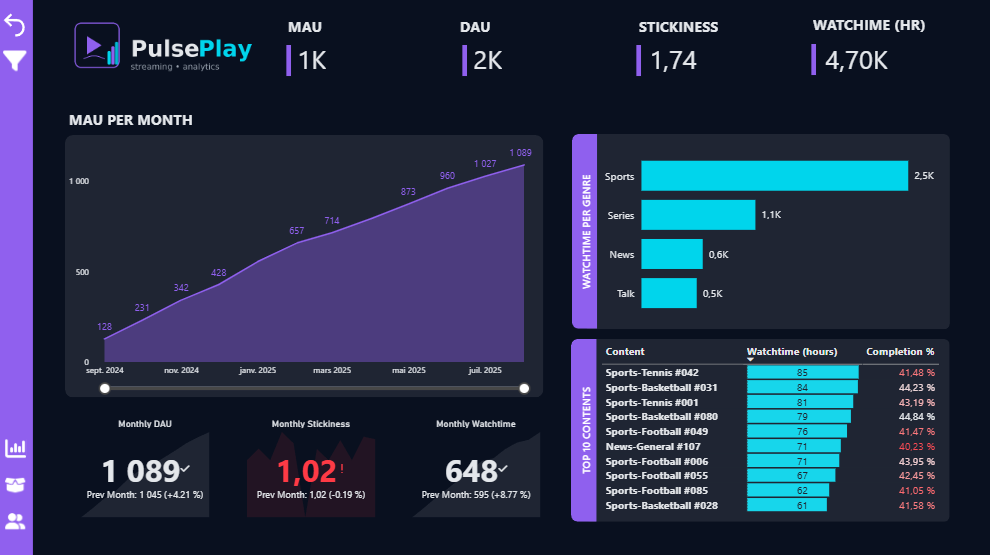

The page's visual inventory and layout, read from the dashboard file:
{"tool":"powerbi","page":{"name":"Overview","canvas":[1280,720],"ordinal":0},"visuals":[{"type":"cardVisual","fields":{"Data":["Measures Table.MAU","Measures Table.DAU","Measures Table.Stickiness (1/30)","Measures Table.Watchtime_hr"]},"box":[368.3,29,911.7,86],"z":0,"group":"g1"},{"type":"shape","box":[86.7,175,616.7,338.3],"z":0},{"type":"actionButton","title":"Overview","box":[5,561.7,35,35],"z":0,"group":"g2"},{"type":"shape","box":[1046.4,57,9.5,40],"z":1000,"group":"g1"},{"type":"actionButton","box":[5,529,34,34],"z":1000},{"type":"shape","title":"Left Nav Background","box":[0,0,45,720],"z":2000},{"type":"textbox","box":[1044.5,15,182.3,36],"z":2000,"group":"g1"},{"type":"actionButton","title":"Content","box":[5,609.4,34,34],"z":2000,"group":"g2"},{"type":"shape","box":[821,58.8,9.5,40],"z":3000,"group":"g1"},{"type":"areaChart","title":"Revenue Trending","fields":{"Category":["date_dim.Début de mois.Variation.Hiérarchie de dates.Année","date_dim.Début de mois.Variation.Hiérarchie de dates.Trimestre","date_dim.Début de mois.Variation.Hiérarchie de dates.Mois","date_dim.Début de mois.Variation.Hiérarchie de dates.Jour"],"Y":["Measures Table.MAU"]},"box":[86.7,174.4,617.8,338.9],"z":3000},{"type":"actionButton","title":"Acquisition","box":[5,656,34,34],"z":3000,"group":"g2"},{"type":"textbox","box":[820.3,17,180.4,36],"z":4000,"group":"g1"},{"type":"textbox","box":[86.7,138.3,200,36.7],"z":4000},{"type":"image","box":[86.7,18.3,300,83.3],"z":5000},{"type":"shape","box":[596.2,59,9.5,40],"z":5000,"group":"g1"},{"type":"kpi","title":"Monthly DAU","fields":{"Indicator":["Measures Table.MAU"],"TrendLine":["date_dim.Début de mois"],"Goal":["Measures Table.Last Month DAU"]},"box":[102.2,540,175.6,133.3],"z":5000,"group":"g5"},{"type":"group","id":"g1","title":"Groupe 1","box":[368.3,15,911.7,100],"z":6000},{"type":"textbox","box":[590.5,17,182.3,36],"z":6000,"group":"g1"},{"type":"kpi","title":"Monthly Stickiness","fields":{"TrendLine":["date_dim.Début de mois"],"Indicator":["Measures Table.Stickiness (1/30)"],"Goal":["Measures Table.Last Month Stickiness"]},"box":[315.5,540,175.6,133.3],"z":6000,"group":"g5"},{"type":"shape","box":[370.2,59,9.5,40],"z":7000,"group":"g1"},{"type":"actionButton","title":"Open filters","box":[2,60,45,38],"z":7000},{"type":"kpi","title":"Monthly Watchtime","fields":{"TrendLine":["date_dim.Début de mois"],"Indicator":["Measures Table.Watchtime_hr"],"Goal":["Measures Table.Last Month Watchtime"]},"box":[528.9,540,175.6,133.3],"z":7000,"group":"g5"},{"type":"actionButton","title":"Clear filters","box":[1.7,10,40,45],"z":8000},{"type":"textbox","box":[368.3,17,182.3,36],"z":8000,"group":"g1"},{"type":"group","id":"g2","title":"Navigation","box":[5,561.7,35,128.3],"z":10000},{"type":"shape","box":[755.5,174,471.7,251.8],"z":11000,"group":"g4"},{"type":"group","id":"g3","title":"Groupe 2","box":[738.9,438.3,487.8,236.1],"z":11000},{"type":"group","id":"g4","title":"Groupe 3","box":[740,173.8,487.1,252],"z":12000},{"type":"shape","box":[740,173.8,32.5,251.2],"z":12000,"group":"g4"},{"type":"barChart","fields":{"Category":["content.genre"],"Y":["Measures Table.Watchtime_hr"]},"box":[773.8,175,447.5,250],"z":13000,"group":"g4"},{"type":"group","id":"g5","title":"Groupe 4","box":[102.2,540,602.2,133.3],"z":13000},{"type":"pivotTable","fields":{"Rows":["content.title"],"Values":["Measures Table.Watchtime_hr","Measures Table.Completion Rate"]},"box":[773.3,438.3,448.3,235],"z":13500,"group":"g3"},{"type":"shape","box":[756.7,438.9,470,235.6],"z":14000,"group":"g3"},{"type":"shape","box":[738.9,438.9,33.3,235.6],"z":17000,"group":"g3"}]}

Visuals, with their boxes in screenshot pixels (x1, y1, x2, y2), scaled from the page's 1280x720 canvas onto the 990x555 screenshot:
cardVisual - Measures Table.MAU x Measures Table.DAU: {"x1": 285, "y1": 22, "x2": 989, "y2": 89}
shape: {"x1": 67, "y1": 135, "x2": 544, "y2": 396}
"Overview" actionButton: {"x1": 4, "y1": 433, "x2": 31, "y2": 460}
shape: {"x1": 809, "y1": 44, "x2": 817, "y2": 75}
actionButton: {"x1": 4, "y1": 408, "x2": 30, "y2": 434}
"Left Nav Background" shape: {"x1": 0, "y1": 0, "x2": 35, "y2": 554}
textbox: {"x1": 808, "y1": 12, "x2": 949, "y2": 39}
"Content" actionButton: {"x1": 4, "y1": 470, "x2": 30, "y2": 496}
shape: {"x1": 635, "y1": 45, "x2": 642, "y2": 76}
"Revenue Trending" areaChart: {"x1": 67, "y1": 134, "x2": 545, "y2": 396}
"Acquisition" actionButton: {"x1": 4, "y1": 506, "x2": 30, "y2": 532}
textbox: {"x1": 634, "y1": 13, "x2": 774, "y2": 41}
textbox: {"x1": 67, "y1": 107, "x2": 222, "y2": 135}
image: {"x1": 67, "y1": 14, "x2": 299, "y2": 78}
shape: {"x1": 461, "y1": 45, "x2": 468, "y2": 76}
"Monthly DAU" kpi: {"x1": 79, "y1": 416, "x2": 215, "y2": 519}
"Groupe 1" group: {"x1": 285, "y1": 12, "x2": 989, "y2": 89}
textbox: {"x1": 457, "y1": 13, "x2": 598, "y2": 41}
"Monthly Stickiness" kpi: {"x1": 244, "y1": 416, "x2": 380, "y2": 519}
shape: {"x1": 286, "y1": 45, "x2": 294, "y2": 76}
"Open filters" actionButton: {"x1": 2, "y1": 46, "x2": 36, "y2": 76}
"Monthly Watchtime" kpi: {"x1": 409, "y1": 416, "x2": 545, "y2": 519}
"Clear filters" actionButton: {"x1": 1, "y1": 8, "x2": 32, "y2": 42}
textbox: {"x1": 285, "y1": 13, "x2": 426, "y2": 41}
"Navigation" group: {"x1": 4, "y1": 433, "x2": 31, "y2": 532}
shape: {"x1": 584, "y1": 134, "x2": 949, "y2": 328}
"Groupe 2" group: {"x1": 571, "y1": 338, "x2": 949, "y2": 520}
"Groupe 3" group: {"x1": 572, "y1": 134, "x2": 949, "y2": 328}
shape: {"x1": 572, "y1": 134, "x2": 597, "y2": 328}
barChart - content.genre x Measures Table.Watchtime_hr: {"x1": 598, "y1": 135, "x2": 945, "y2": 328}
"Groupe 4" group: {"x1": 79, "y1": 416, "x2": 545, "y2": 519}
pivotTable - content.title x Measures Table.Watchtime_hr: {"x1": 598, "y1": 338, "x2": 945, "y2": 519}
shape: {"x1": 585, "y1": 338, "x2": 949, "y2": 520}
shape: {"x1": 571, "y1": 338, "x2": 597, "y2": 520}
